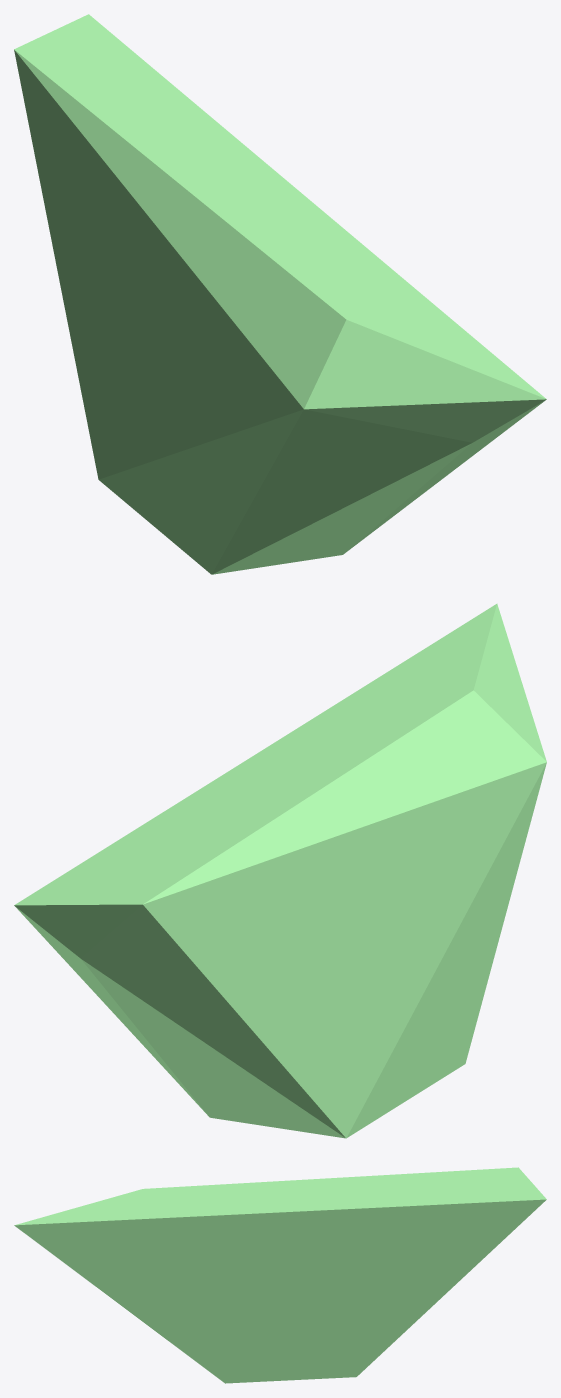
The model's file is UMIRobot_UMIRobot_link_5_convex_coll_65.dae.
The picture shows the model from 3 angles, top to bottom: view 1: azimuth 30°, elevation 25°; view 2: azimuth 150°, elevation 25°; view 3: azimuth 270°, elevation 25°; orthographic projection. The views are drawn at different scales.
Visible parts, largest first — view 1: node; view 2: node; view 3: node.
Part boxes in pixels (<box>): node: <box>14,14,546,574</box>; node: <box>14,603,546,1138</box>; node: <box>14,1167,546,1383</box>.
Size of the model in its own units: 0.00237 by 0.0049 by 0.0121.
